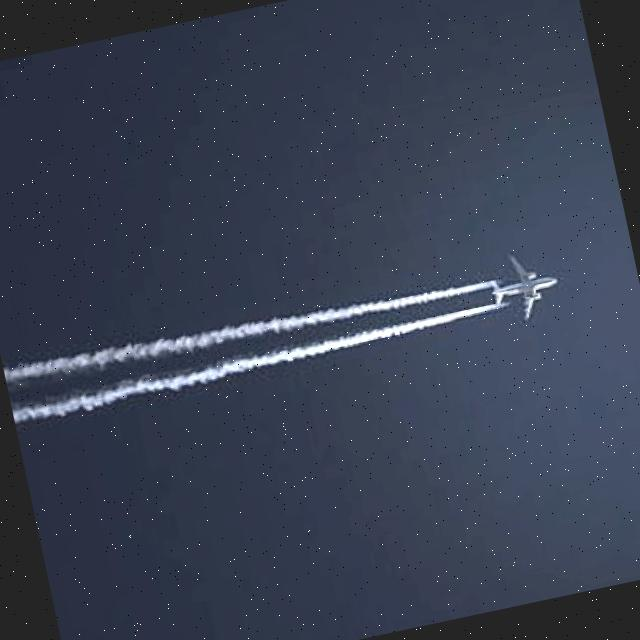Ct: (1, 86, 512, 512)
